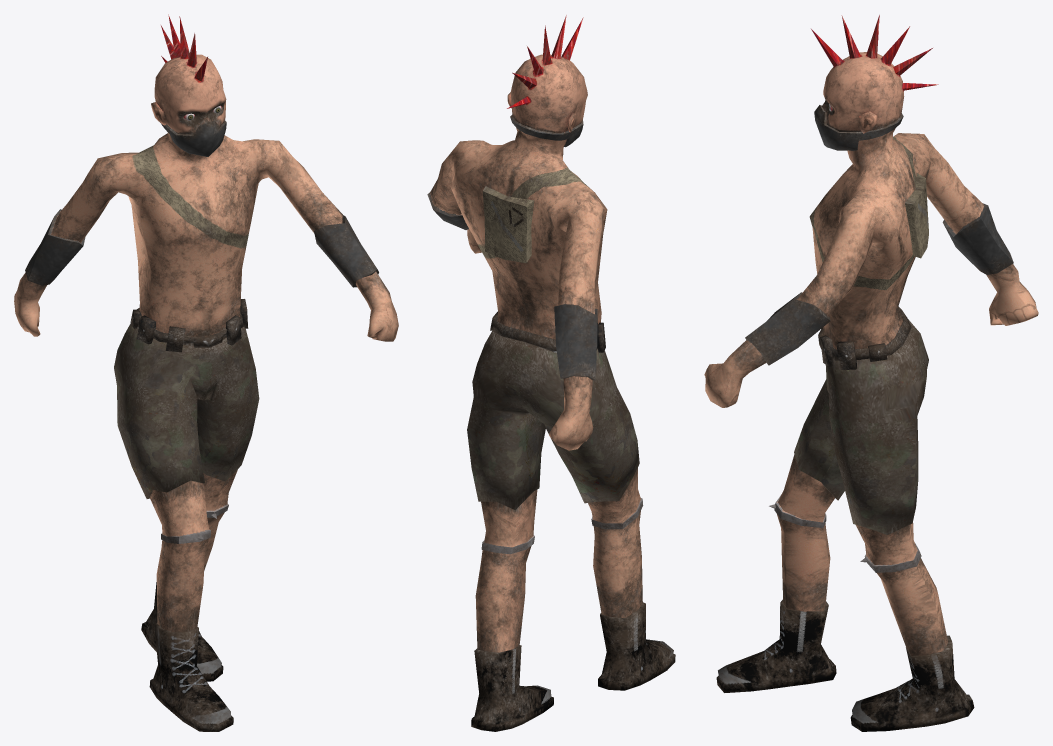
Rendered from Anim_andar_npc2.0023.obj.
3 views of the same model, side by side, from view 1: azimuth 30°, elevation 25°; view 2: azimuth 150°, elevation 25°; view 3: azimuth 270°, elevation 25° (orthographic). The views are drawn at different scales.
Parts seen in each view (by area): view 1: Anim_andar_npc2; view 2: Anim_andar_npc2; view 3: Anim_andar_npc2.
Boxes of the visible parts, box(x1,y1,x2,y2) form: Anim_andar_npc2: box(14, 14, 398, 731); Anim_andar_npc2: box(427, 15, 675, 731); Anim_andar_npc2: box(704, 15, 1038, 731).
Bounding box in the file's own units: 4.01 × 10.18 × 4.4.
